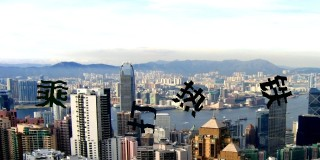乘: (35, 79, 70, 111)
打: (128, 100, 158, 136)
热: (174, 80, 207, 119)
铁: (259, 74, 292, 110)
